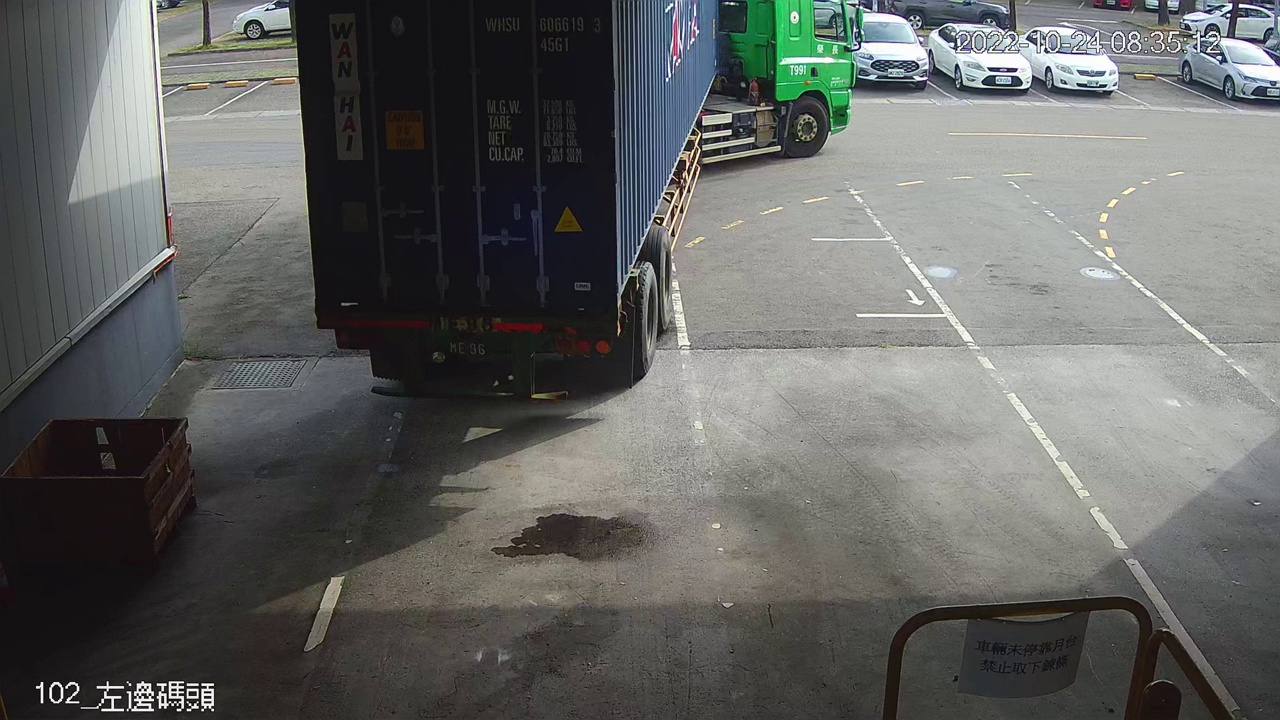container: (478, 6, 609, 59)
